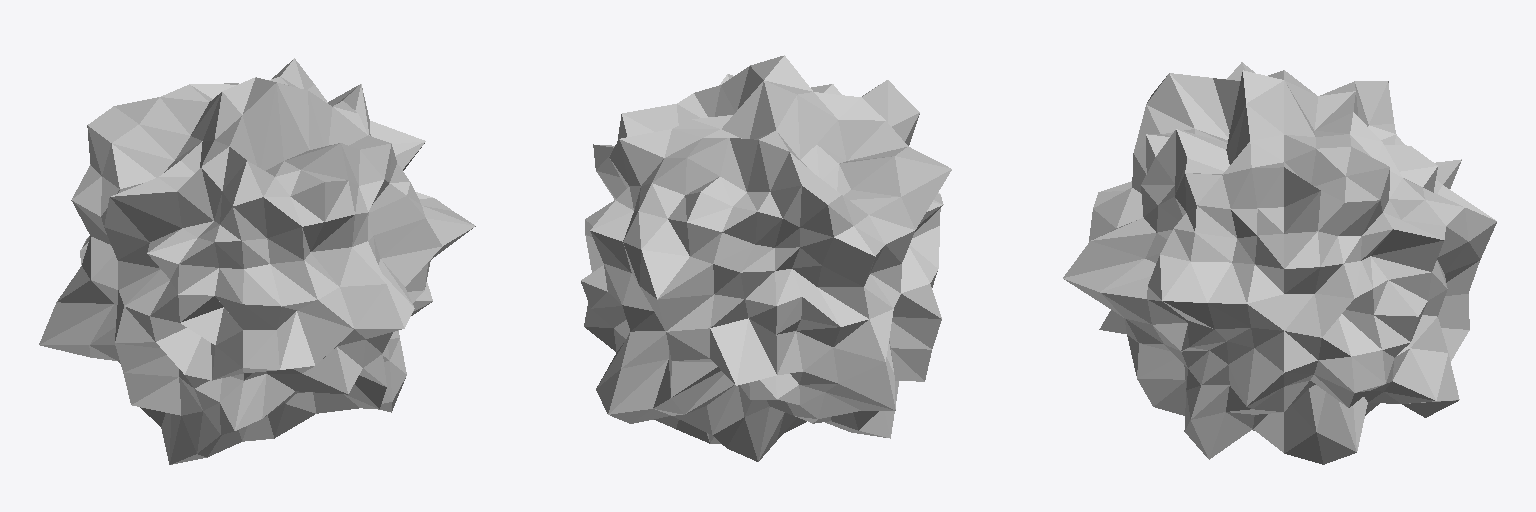
Rendered from DisplacementAsteroid2.obj.
3 views of the same model, side by side, from view 1: azimuth 30°, elevation 25°; view 2: azimuth 150°, elevation 25°; view 3: azimuth 270°, elevation 25° (orthographic).
Parts seen in each view (by area): view 1: Cube; view 2: Cube; view 3: Cube.
Part boxes in pixels (bbox=[...]): Cube: bbox=[39, 58, 475, 464]; Cube: bbox=[581, 55, 951, 461]; Cube: bbox=[1063, 62, 1496, 464].
Bounding box in the file's own units: 2.04 × 2.11 × 2.23.